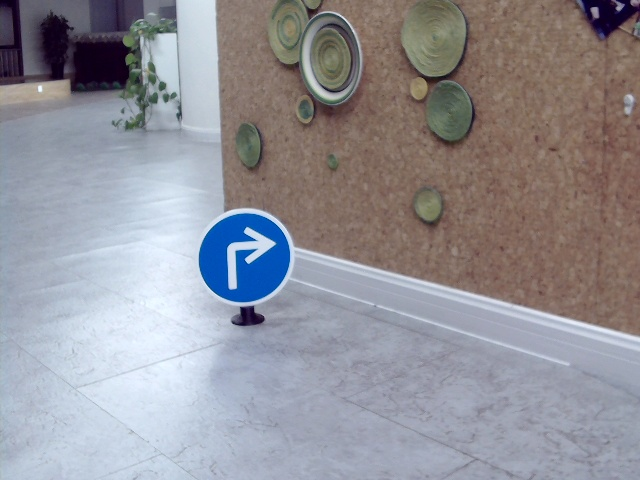turn_right: (222, 227, 276, 290)
